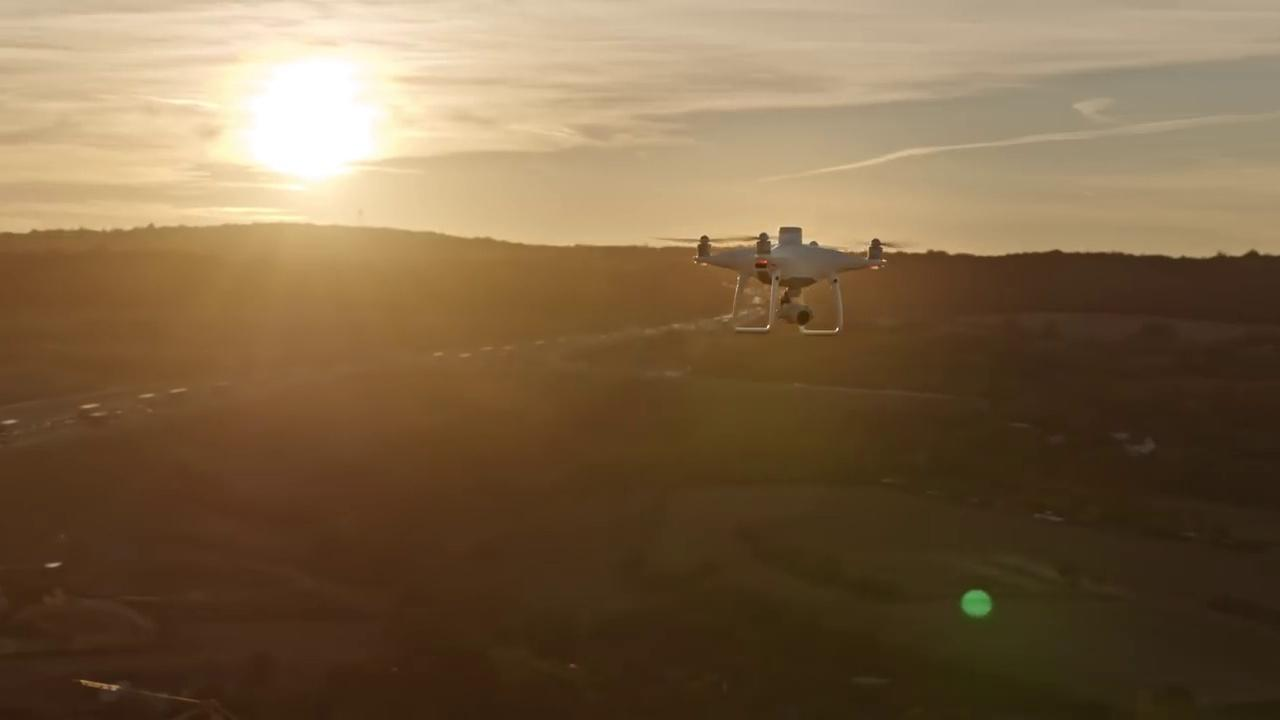drone: (655, 223, 904, 338)
